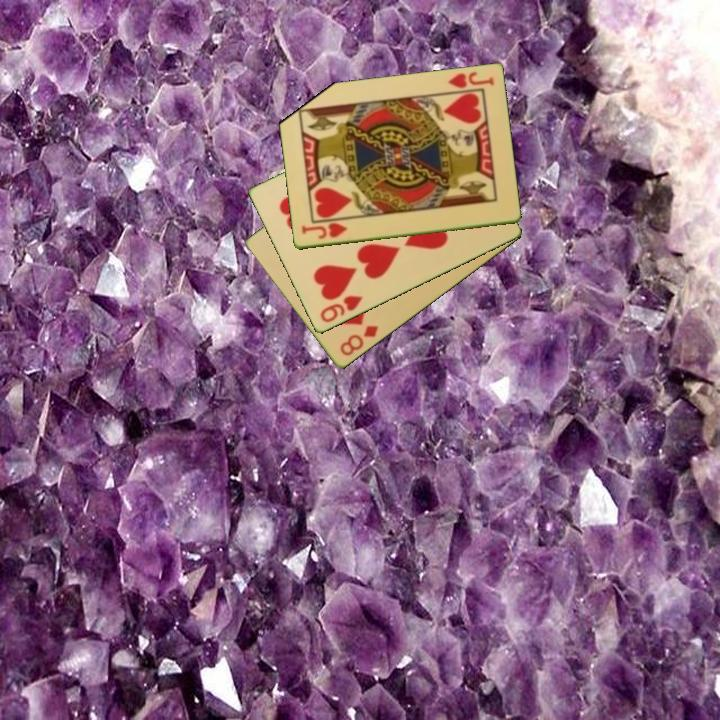8d: (336, 322, 382, 359)
9h: (316, 292, 365, 326)
Jh: (298, 219, 350, 242), (444, 69, 497, 91)
